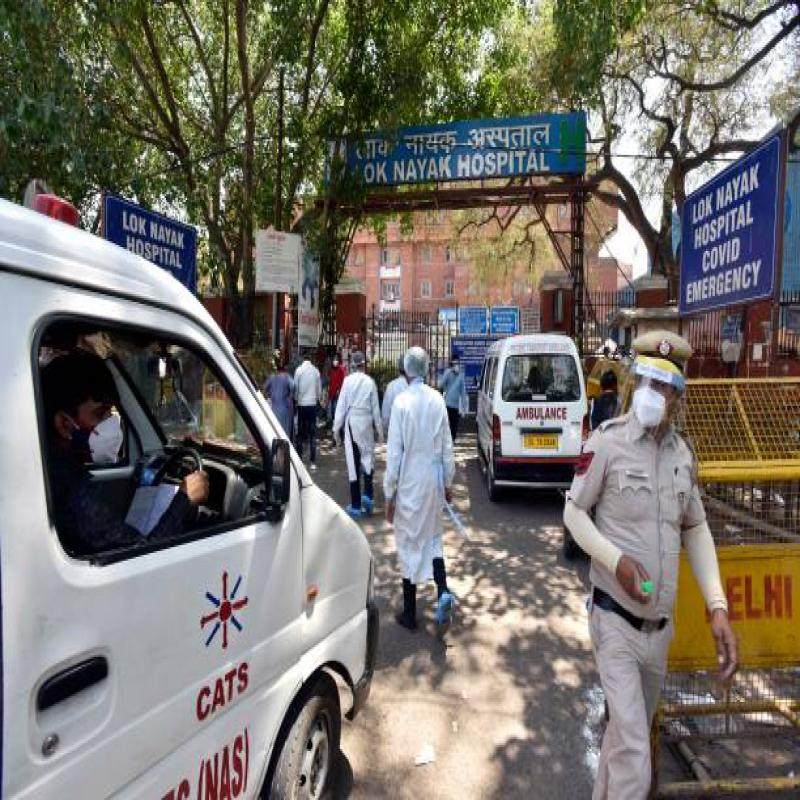ambulance: (0, 196, 354, 798)
